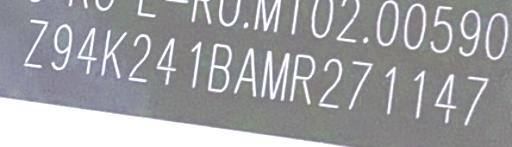letter: (257, 47, 295, 104), (458, 72, 494, 127), (230, 42, 264, 99), (202, 40, 236, 95), (286, 51, 320, 106), (125, 30, 157, 87), (315, 54, 347, 111), (98, 26, 130, 81), (344, 57, 376, 112), (431, 71, 463, 124), (21, 15, 51, 70), (406, 67, 434, 120), (47, 22, 75, 73), (154, 34, 180, 87), (74, 25, 100, 76), (184, 36, 208, 91), (380, 64, 404, 117)
